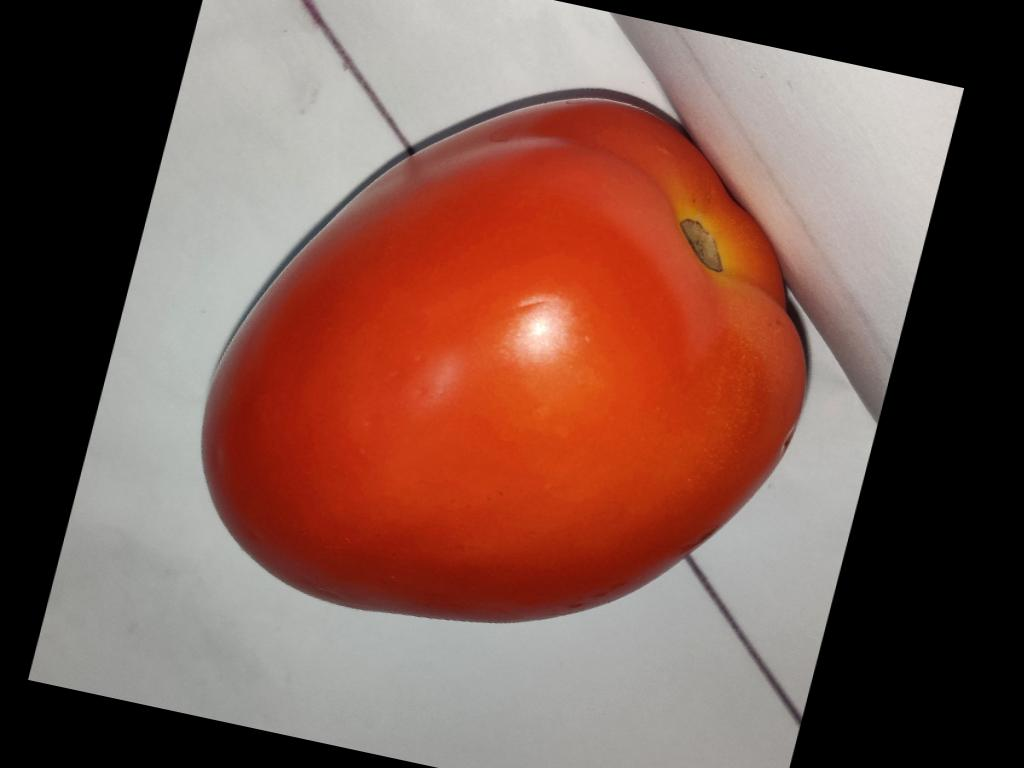tomato: (202, 100, 803, 622)
